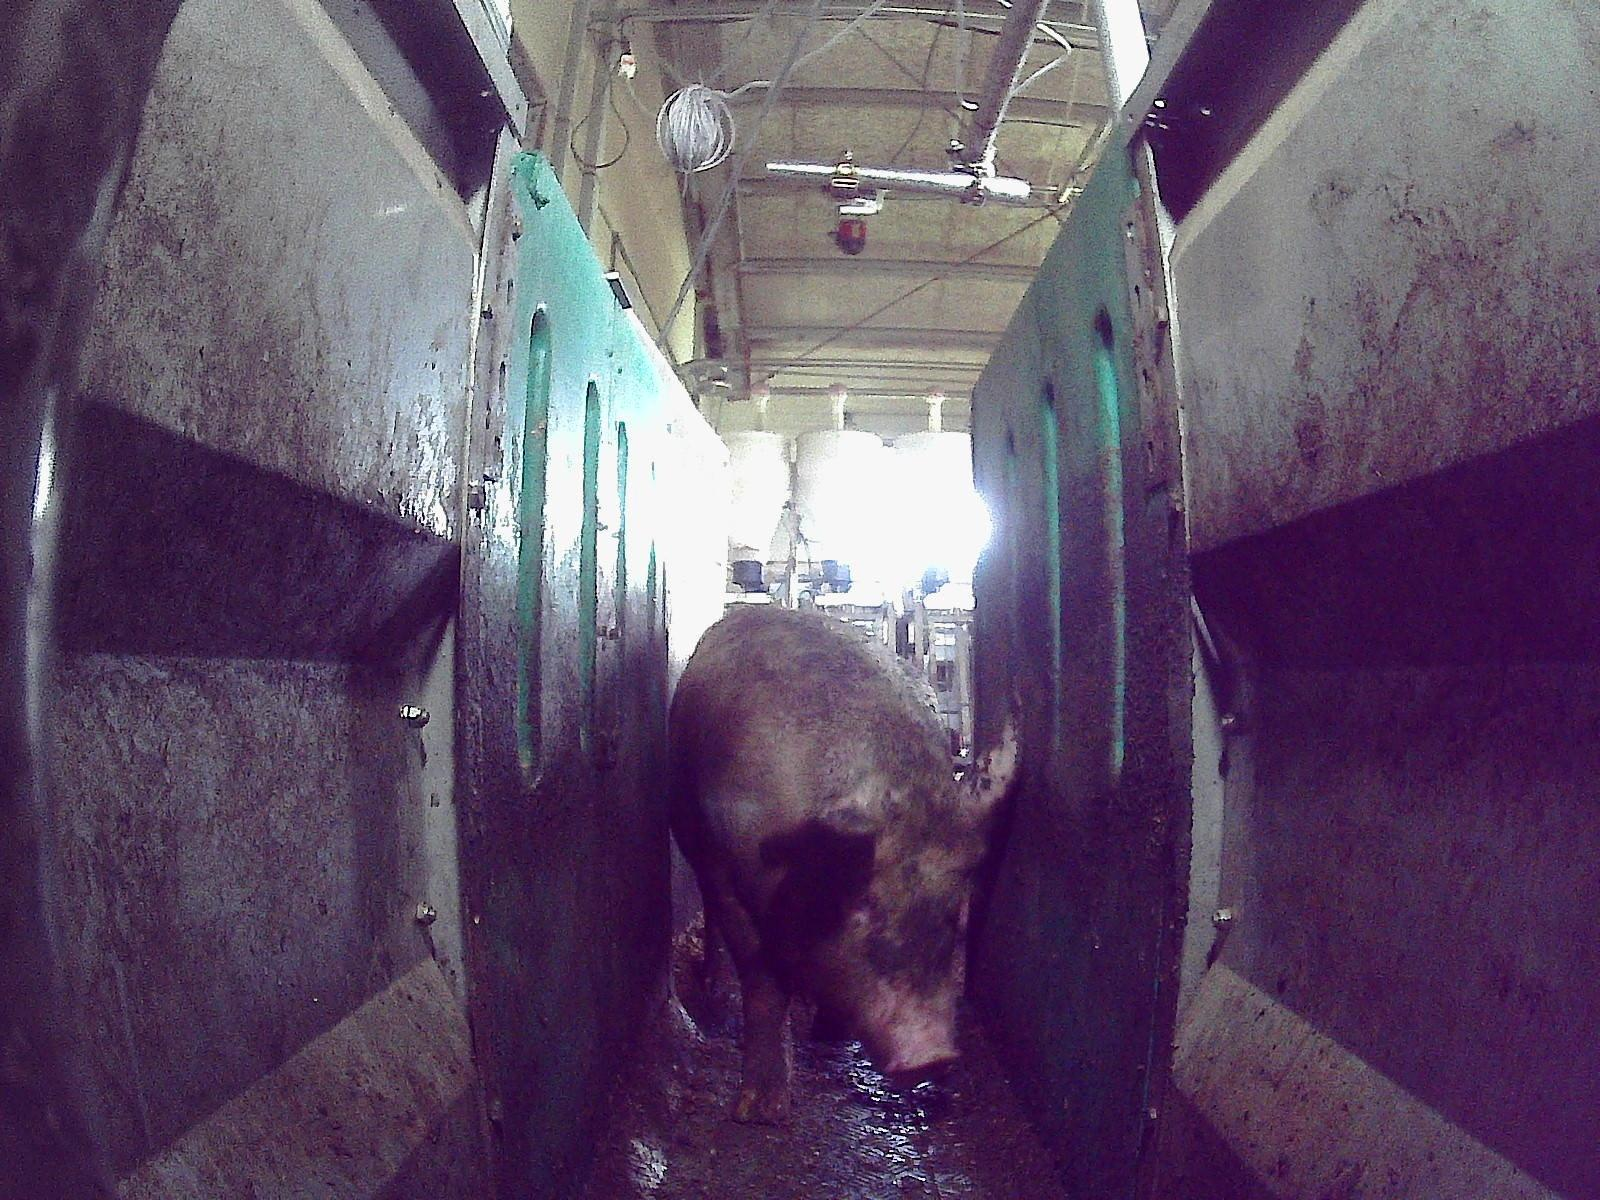Face: (805, 820, 974, 1083)
